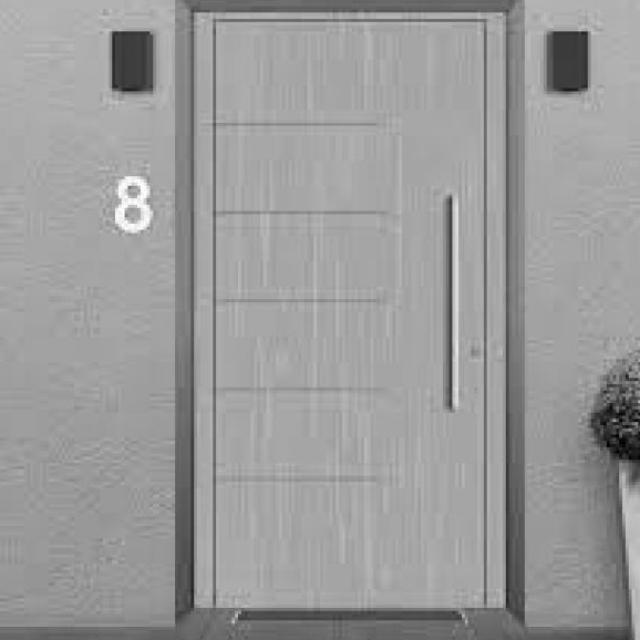door: (198, 10, 500, 613)
